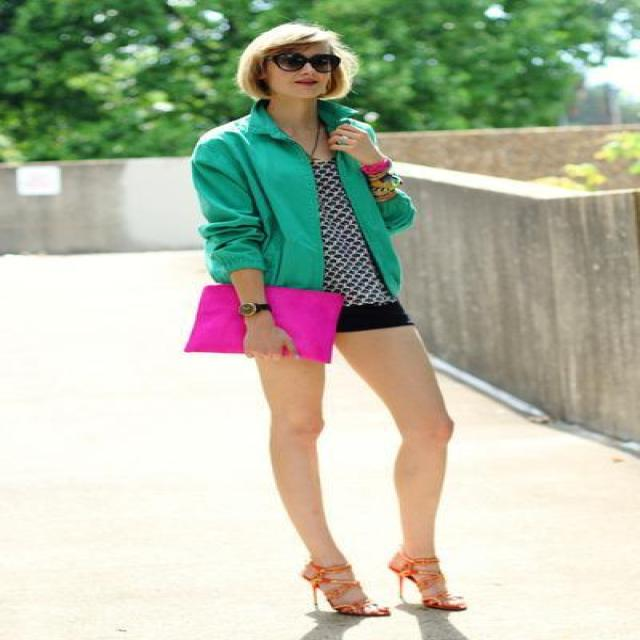bag: (184, 284, 347, 362)
dress: (314, 166, 412, 332)
jacket: (192, 100, 413, 294)
shoe: (302, 556, 464, 622)
sunglass: (262, 42, 325, 72)
